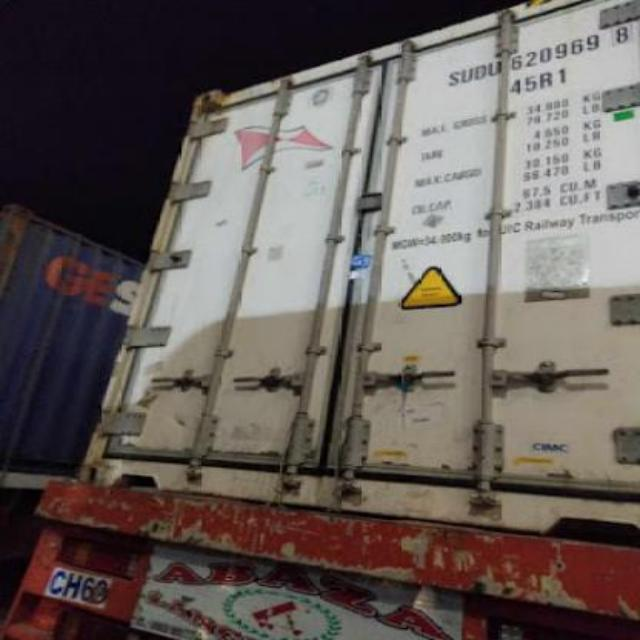0: (538, 48, 554, 64)
2: (524, 51, 536, 67)
6: (568, 36, 586, 56), (512, 56, 522, 70)
8: (614, 27, 630, 45)
9: (586, 35, 600, 53), (556, 44, 570, 60)
D: (474, 64, 488, 80)
S: (448, 72, 460, 86)
U: (488, 60, 502, 76), (460, 70, 472, 82)
